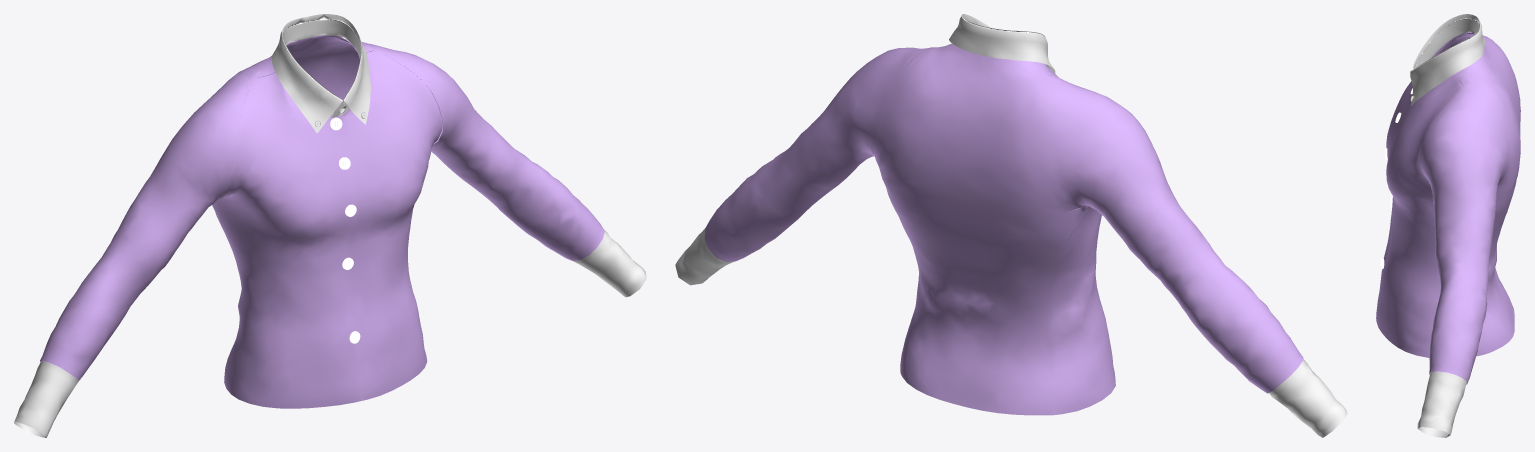
Rendered from camisa.glb.
The picture shows the model from 3 angles, left to right: view 1: azimuth 30°, elevation 25°; view 2: azimuth 150°, elevation 25°; view 3: azimuth 270°, elevation 25°; orthographic projection. The views are drawn at different scales.
Visible parts, largest first — view 1: Object_4, Object_2, Object_3, Object_8; view 2: Object_4, Object_2; view 3: Object_4, Object_2, Object_3, Object_8.
Part boxes in pixels (x1,y1,x2,y2): Object_4: [40, 35, 604, 408]; Object_2: [14, 14, 646, 437]; Object_3: [282, 18, 361, 117]; Object_8: [330, 117, 360, 343]; Object_4: [704, 43, 1303, 415]; Object_2: [675, 14, 1347, 437]; Object_4: [1376, 32, 1520, 384]; Object_2: [1410, 14, 1484, 437]; Object_3: [1414, 17, 1479, 68]; Object_8: [1380, 88, 1412, 269].
Size of the model in its own units: 1136 by 595 by 262.
Materials: 7 (1 with a texture image).
